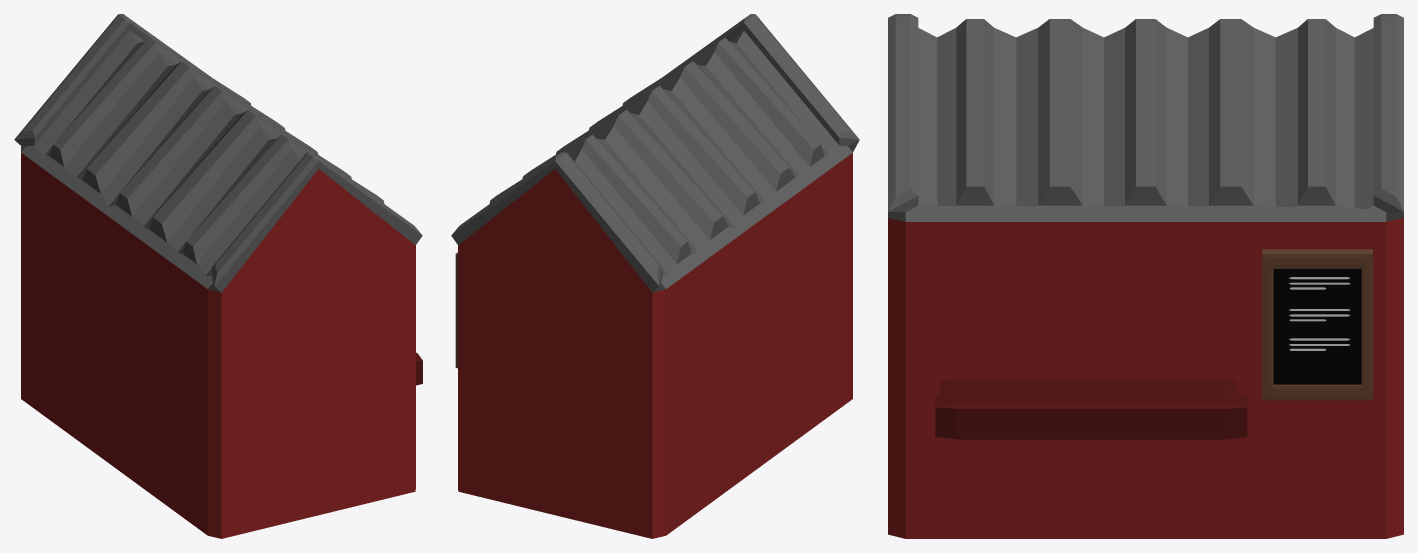
Rendered from MarketShop.fbx.
The picture shows the model from 3 angles, left to right: view 1: azimuth 30°, elevation 25°; view 2: azimuth 150°, elevation 25°; view 3: azimuth 270°, elevation 25°; orthographic projection. The views are drawn at different scales.
Parts seen in each view (by area): view 1: Cube.002; view 2: Cube.002; view 3: Cube.002, Cube, Cube.001.
Boxes of the visible parts, bbox=[...] form: Cube.002: bbox=[14, 14, 422, 538]; Cube.002: bbox=[451, 14, 859, 538]; Cube.002: bbox=[888, 14, 1403, 538]; Cube: bbox=[935, 379, 1247, 439]; Cube.001: bbox=[1262, 249, 1372, 400].
Size of the model in its own units: 981 by 1453 by 1482.
